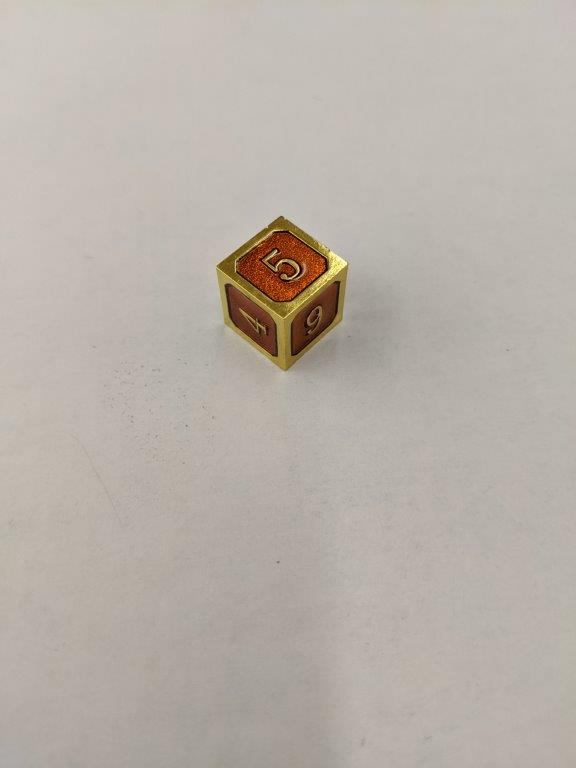d6-5: (218, 212, 345, 372)
